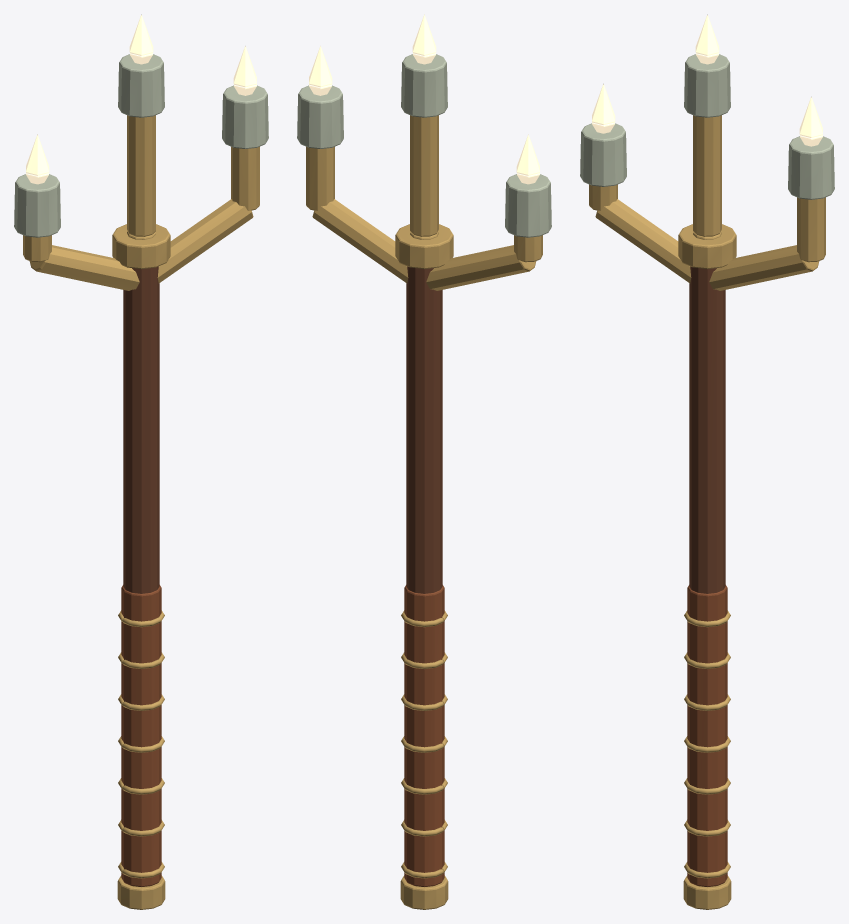
File: item_036.glb
The picture shows the model from 3 angles, left to right: view 1: azimuth 30°, elevation 25°; view 2: azimuth 150°, elevation 25°; view 3: azimuth 330°, elevation 25°; orthographic projection.
Visible parts, largest first — view 1: Item_036_funeral_candelabrum; view 2: Item_036_funeral_candelabrum; view 3: Item_036_funeral_candelabrum.
Boxes of the visible parts, x1,y1,x2,y2 form: Item_036_funeral_candelabrum: (14, 14, 268, 909); Item_036_funeral_candelabrum: (297, 14, 551, 909); Item_036_funeral_candelabrum: (580, 14, 834, 909).
Bounding box in the file's own units: 0.5499 × 1.87 × 0.112.
